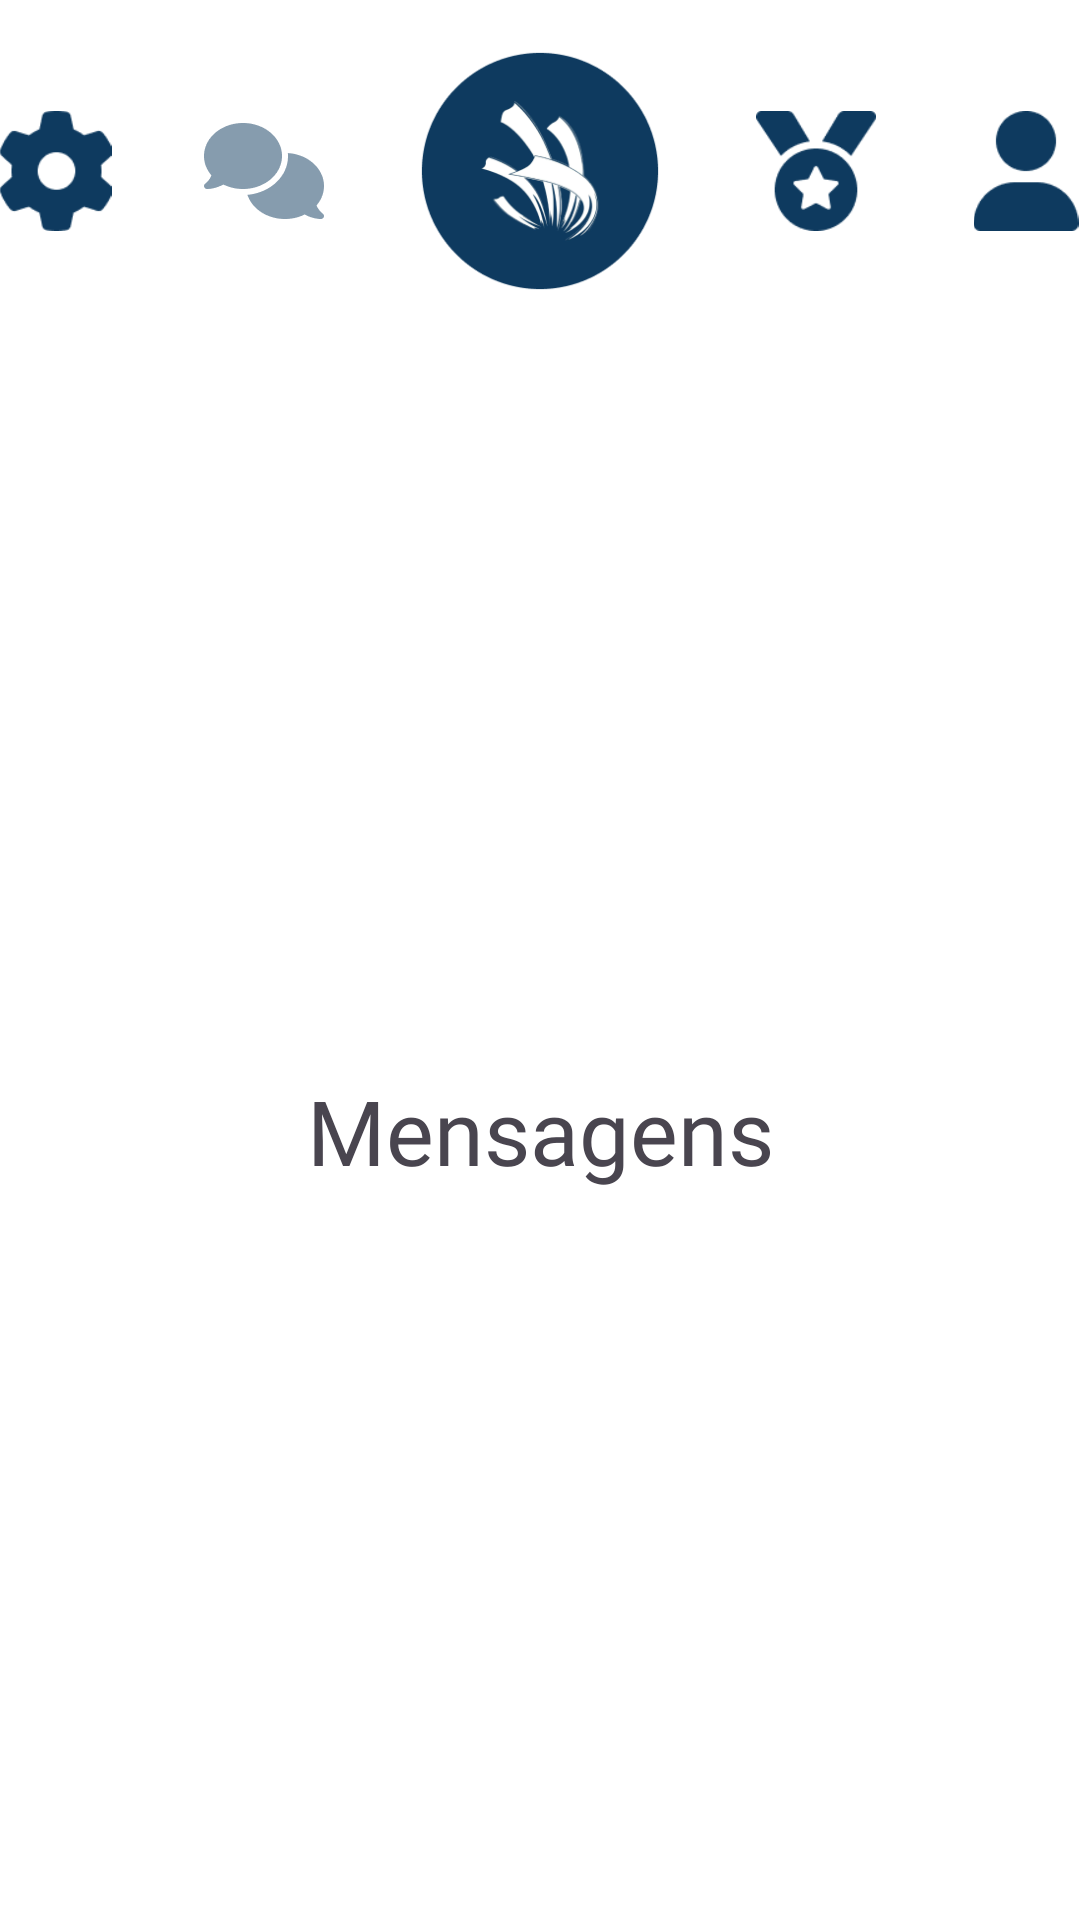

Named icons in this screenshot (1080*1920) and their centers, (x=x, y=y):
badges: (x=816, y=171)
chat faded: (x=264, y=171)
settings: (x=56, y=171)
user: (x=1026, y=171)
